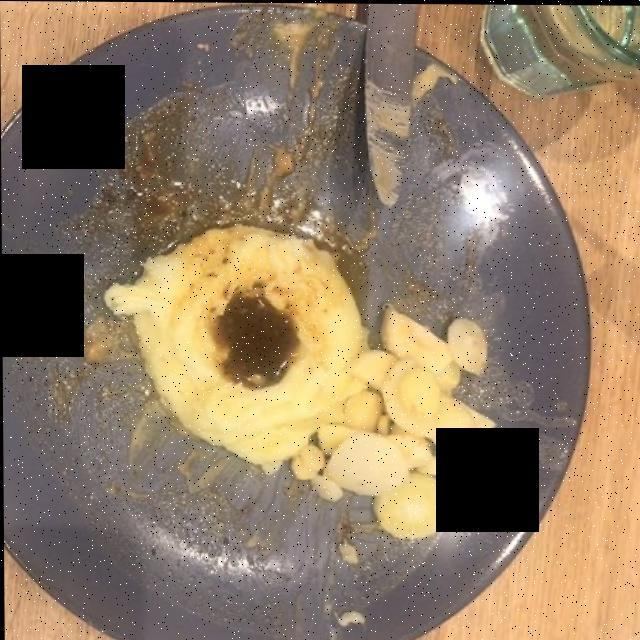mashed-potatoes: (107, 210, 362, 450)
sauce: (207, 274, 303, 396)
